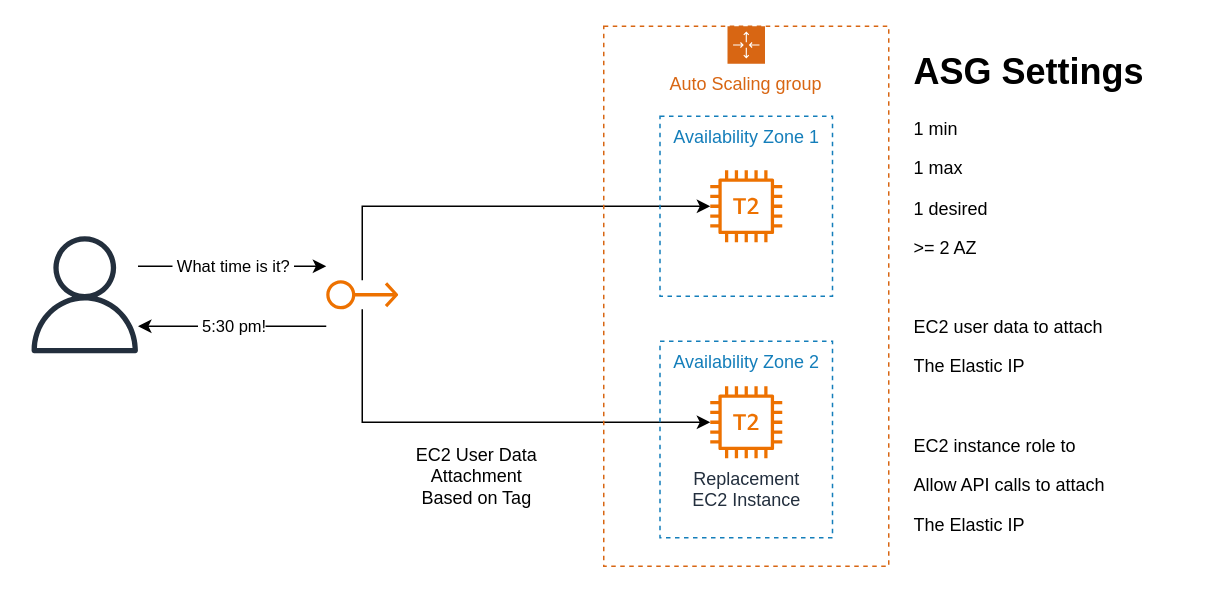
The diagram is 1206 pixels wide and 593 high, and some of its shapes have lost their labels. The centre of each missing label's shape, as x and y in pixels:
"Elastic IP Address" goes at (x=362, y=294).
"Public EC2" goes at (x=746, y=206).
